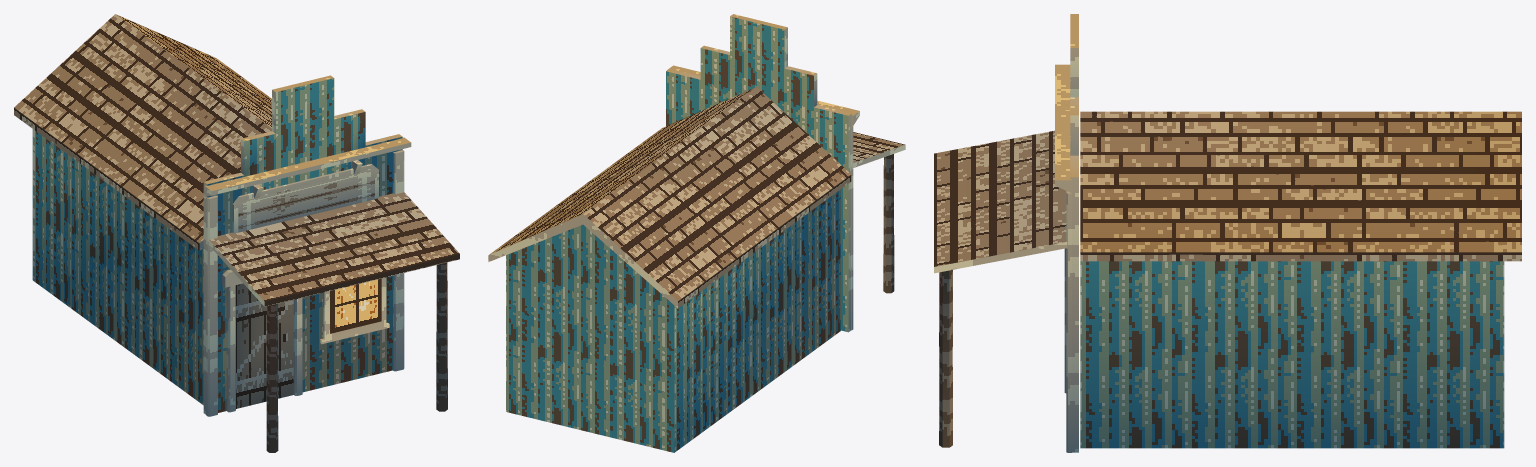
File: wtown.facade__b_stepped.glb
3 renders of one model, left to right at view 1: azimuth 30°, elevation 25°; view 2: azimuth 150°, elevation 25°; view 3: azimuth 270°, elevation 25°, orthographic. The views are drawn at different scales.
Visible parts, largest first — view 1: kit_roof, kit_body, kit_porch, kit_front, kit_card_panes, kit_trim, kit_windows; view 2: kit_body, kit_roof, kit_front, kit_porch, kit_trim; view 3: kit_body, kit_roof, kit_porch, kit_trim, kit_front.
Part boxes in pixels (<box>): kit_roof: <box>14,14,271,250</box>; kit_body: <box>32,129,203,405</box>; kit_porch: <box>208,192,459,452</box>; kit_front: <box>203,75,402,414</box>; kit_card_panes: <box>236,169,381,408</box>; kit_trim: <box>204,137,411,416</box>; kit_windows: <box>320,277,389,344</box>; kit_body: <box>506,189,840,452</box>; kit_roof: <box>488,87,851,308</box>; kit_front: <box>666,14,851,332</box>; kit_porch: <box>853,132,905,293</box>; kit_trim: <box>667,65,859,330</box>; kit_body: <box>1080,261,1504,448</box>; kit_roof: <box>1080,111,1521,261</box>; kit_porch: <box>934,130,1067,447</box>; kit_trim: <box>1055,64,1071,452</box>; kit_front: <box>1070,14,1078,452</box>.
Bounding box in the file's own units: 3.94 × 5.7 × 8.32.
7 materials, 7 textured.
